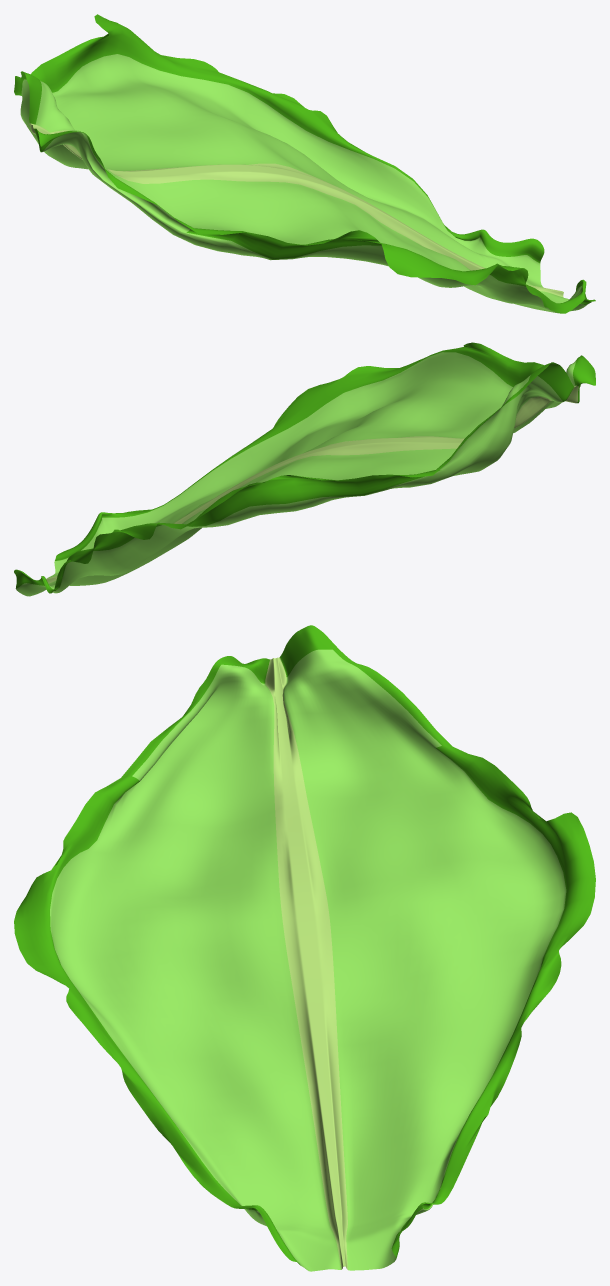
Rendered from lettuce.fbx.
The picture shows the model from 3 angles, top to bottom: view 1: azimuth 30°, elevation 25°; view 2: azimuth 150°, elevation 25°; view 3: azimuth 270°, elevation 25°; orthographic projection. The views are drawn at different scales.
Parts seen in each view (by area): view 1: Hoja Lechuga.003; view 2: Hoja Lechuga.003; view 3: Hoja Lechuga.003.
Boxes of the visible parts, x1,y1,x2,y2 form: Hoja Lechuga.003: [14, 14, 595, 313]; Hoja Lechuga.003: [14, 342, 595, 596]; Hoja Lechuga.003: [14, 625, 595, 1271].
Bounding box in the file's own units: 20.68 × 12.74 × 17.93.
